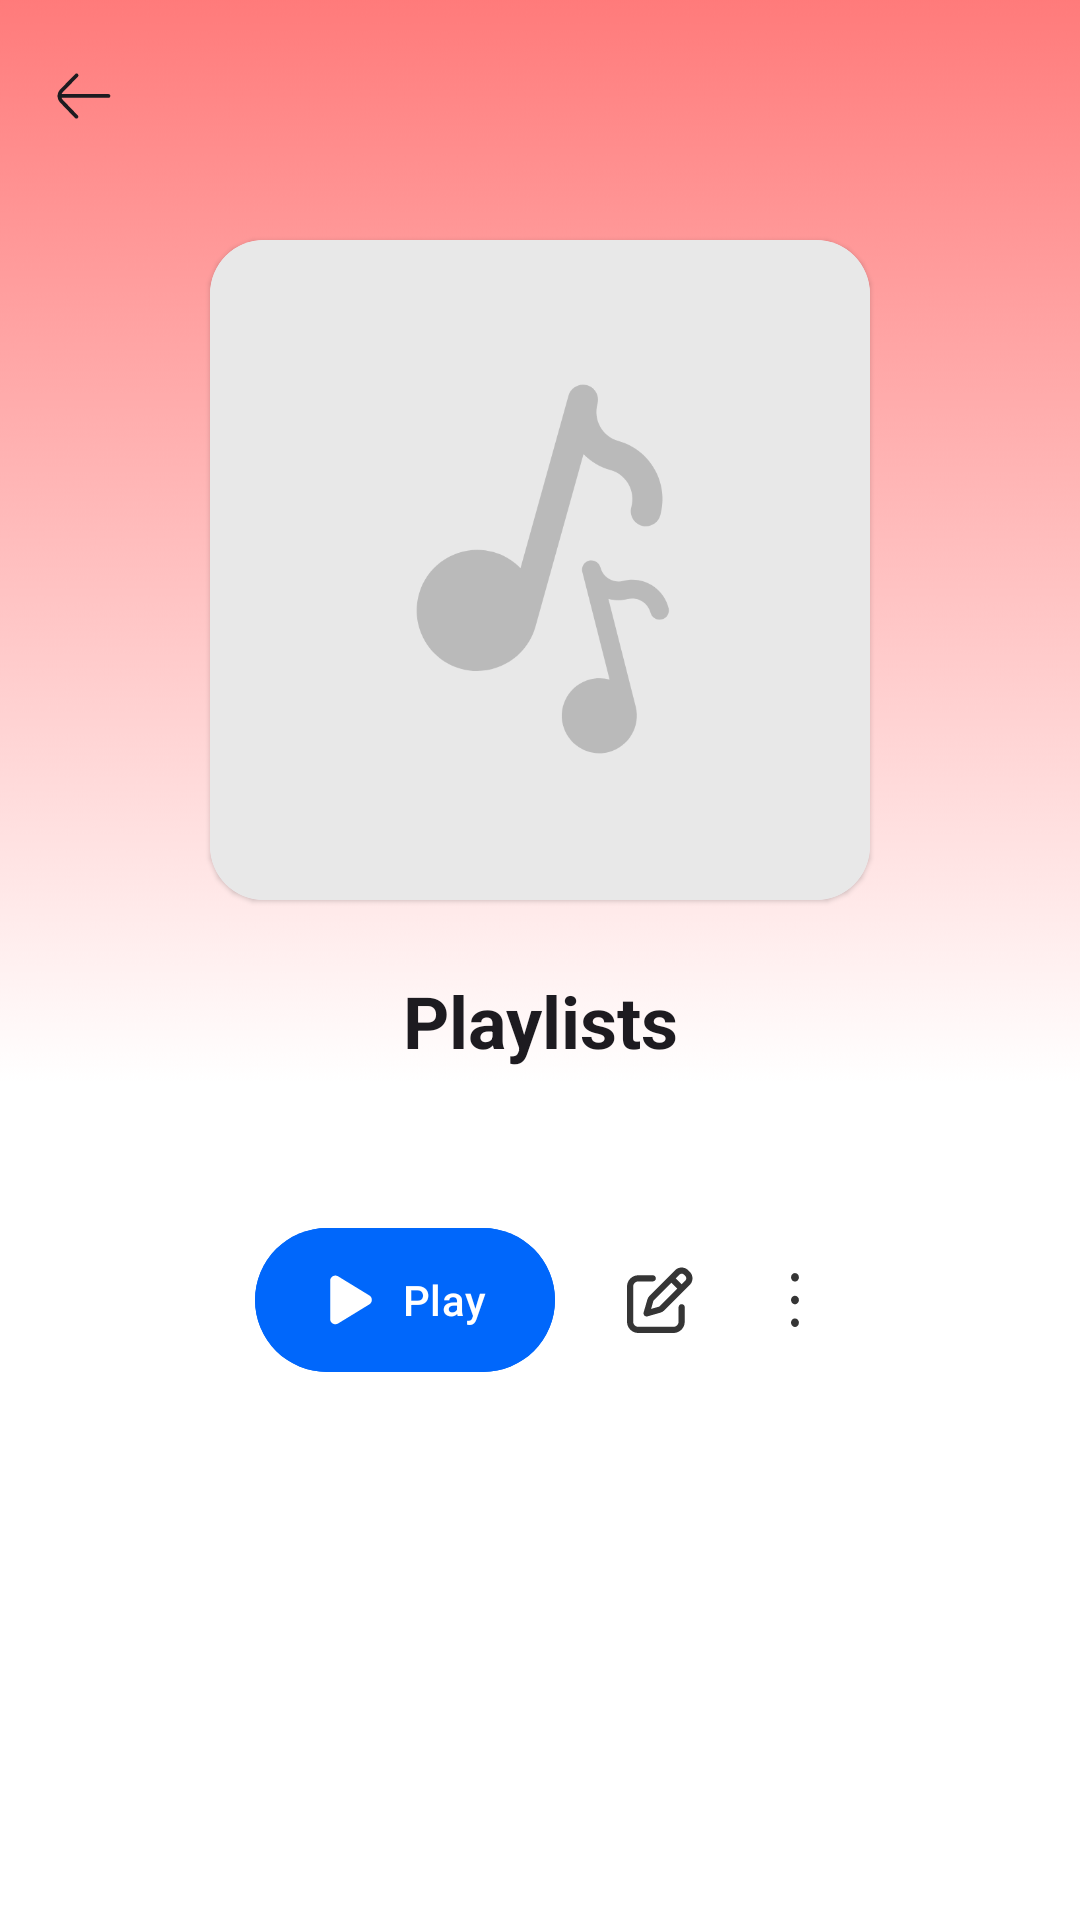

Icon click points for this 1080px x 1920px phone screenshot, format (x=x, y=y):
edit button: (x=660, y=1300)
